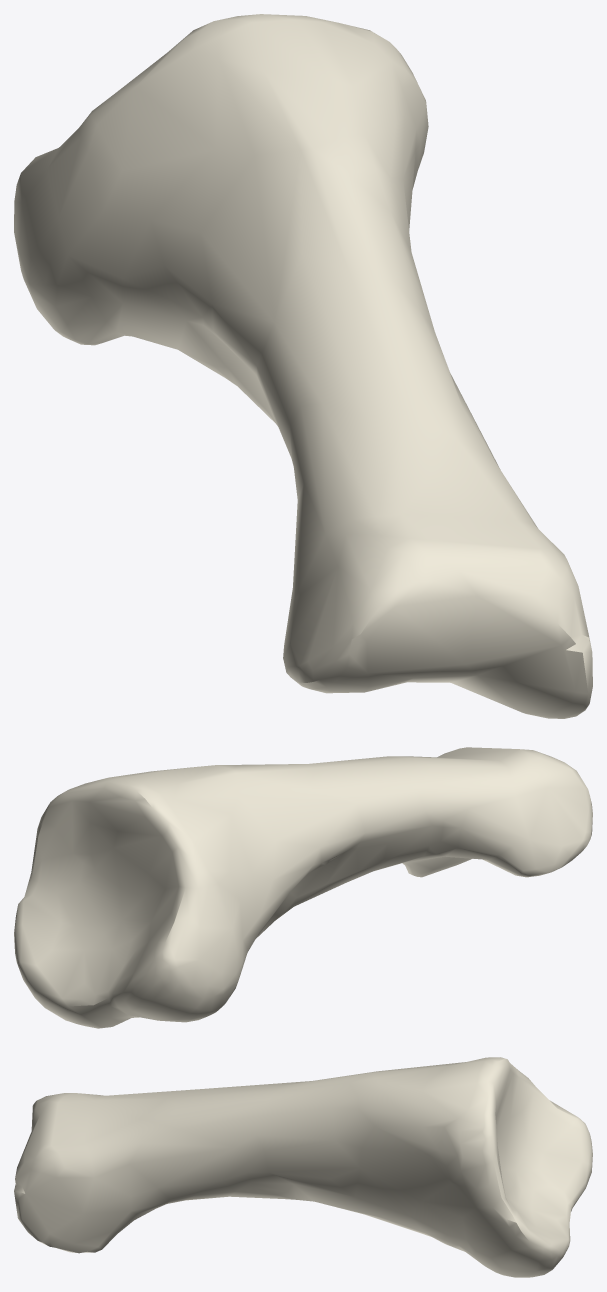
Rendered from fma32636.glb.
The picture shows the model from 3 angles, top to bottom: view 1: azimuth 30°, elevation 25°; view 2: azimuth 150°, elevation 25°; view 3: azimuth 270°, elevation 25°; orthographic projection. The views are drawn at different scales.
Parts seen in each view (by area): view 1: FMA32636; view 2: FMA32636; view 3: FMA32636.
Part boxes in pixels (bbox=[...]): FMA32636: bbox=[14, 14, 592, 718]; FMA32636: bbox=[14, 747, 592, 1028]; FMA32636: bbox=[14, 1057, 592, 1277].
Bounding box in the file's own units: 0.0159 × 0.0119 × 0.0292.
